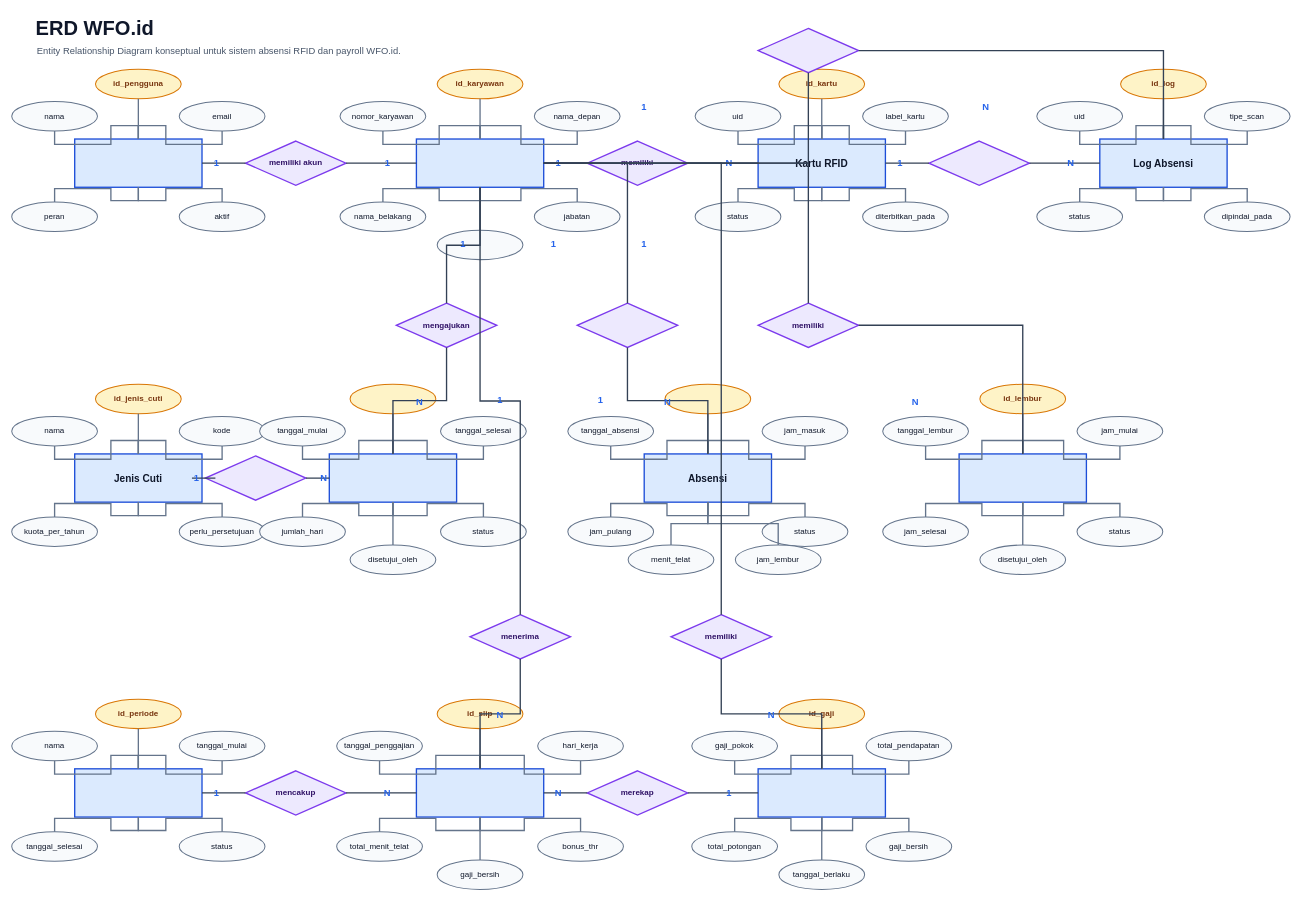
This 1302x901 diagram has some shape labels left out. The box of each missing label's shape, as (x1, y1, x2, y2) in pixels:
Cuti: (328, 453, 457, 503)
digunakan: (204, 455, 306, 500)
Gaji: (757, 768, 886, 817)
id_absensi: (664, 383, 751, 414)
id_cuti: (349, 383, 436, 414)
Karyawan: (415, 138, 544, 188)
melakukan: (576, 302, 678, 348)
menghasilkan log: (757, 27, 859, 73)
Pengguna: (74, 138, 202, 188)
Periode Penggajian: (74, 768, 202, 817)
Persetujuan Lembur: (958, 453, 1087, 503)
Slip Gaji: (415, 768, 544, 817)
tarif_harian: (436, 229, 523, 260)
tercatat pada: (928, 140, 1030, 186)
